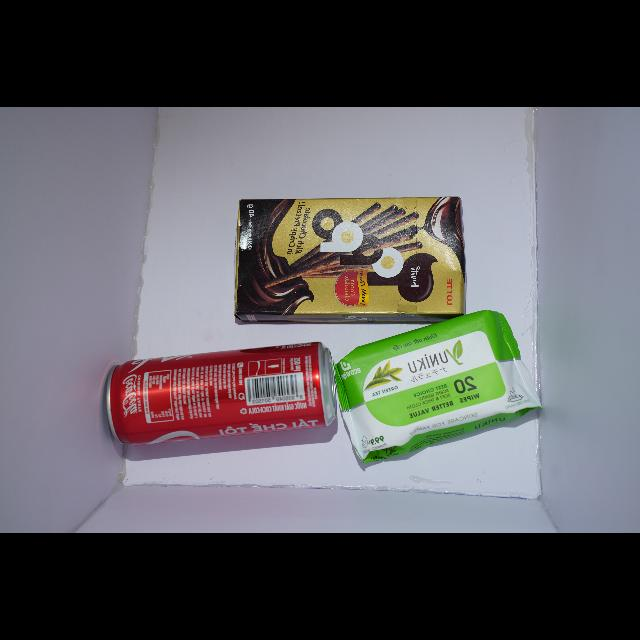banh_toppo_socola: (235, 197, 466, 323)
coca_cola: (106, 343, 335, 445)
khan_giay: (335, 311, 540, 463)
